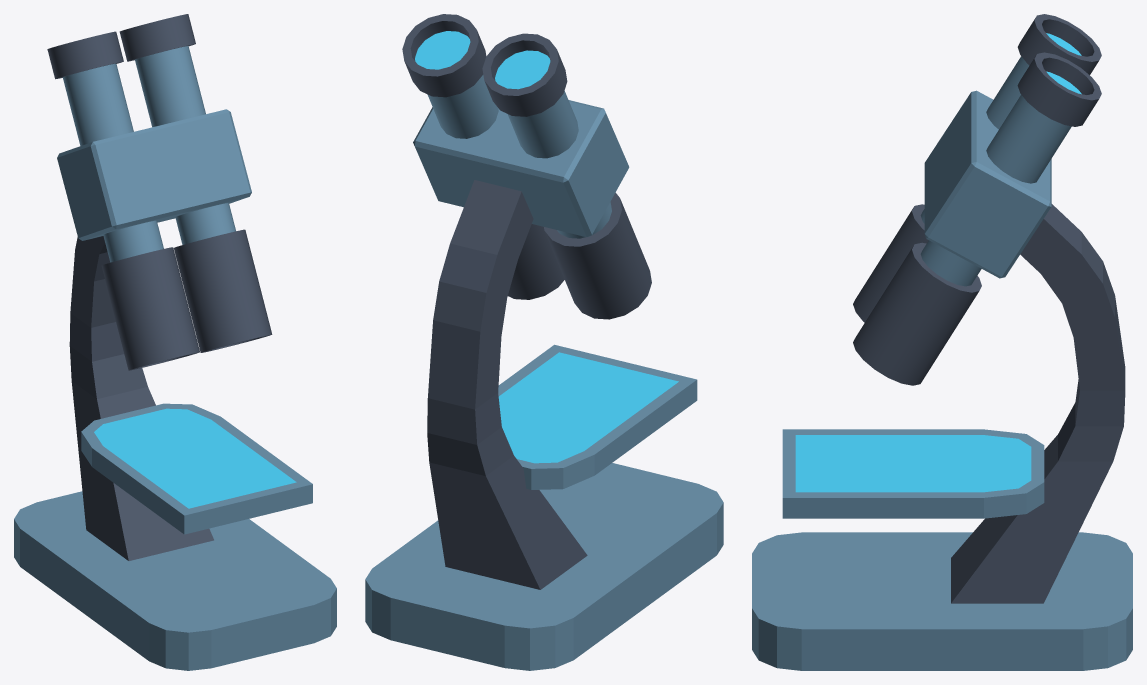
The model's file is 5 microscope.fbx.
3 views of the same model, side by side, from view 1: azimuth 30°, elevation 25°; view 2: azimuth 150°, elevation 25°; view 3: azimuth 270°, elevation 25° (orthographic). The views are drawn at different scales.
Visible parts, largest first — view 1: 5 microscope; view 2: 5 microscope; view 3: 5 microscope.
Part boxes in pixels (x1,y1,x2,y2): 5 microscope: [14, 14, 336, 670]; 5 microscope: [365, 14, 723, 670]; 5 microscope: [752, 14, 1132, 670].
Bounding box in the file's own units: 10.13 × 28.48 × 16.86.
